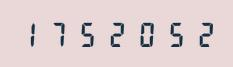five: (73, 20, 100, 47), (157, 20, 184, 47)
one: (17, 20, 44, 47)
seven: (45, 20, 72, 47)
two: (101, 20, 128, 47), (185, 20, 212, 47)
zero: (129, 20, 156, 47)
